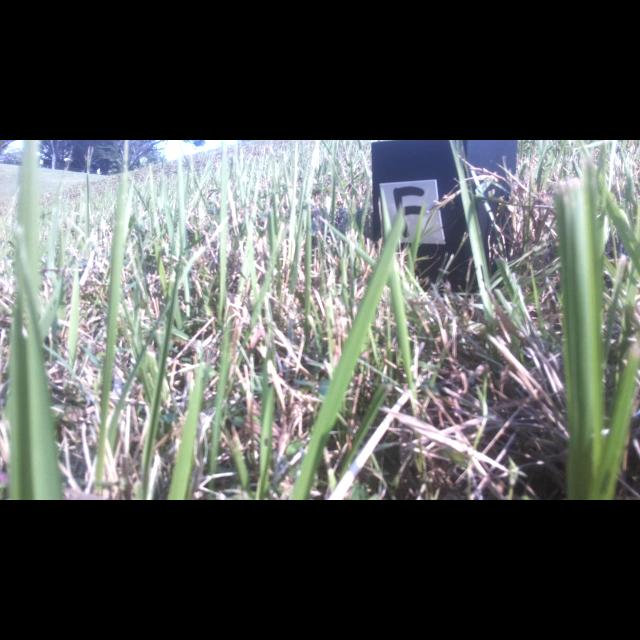F: (393, 185, 425, 238)
